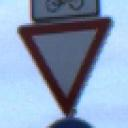preferencia: (14, 16, 121, 118)
